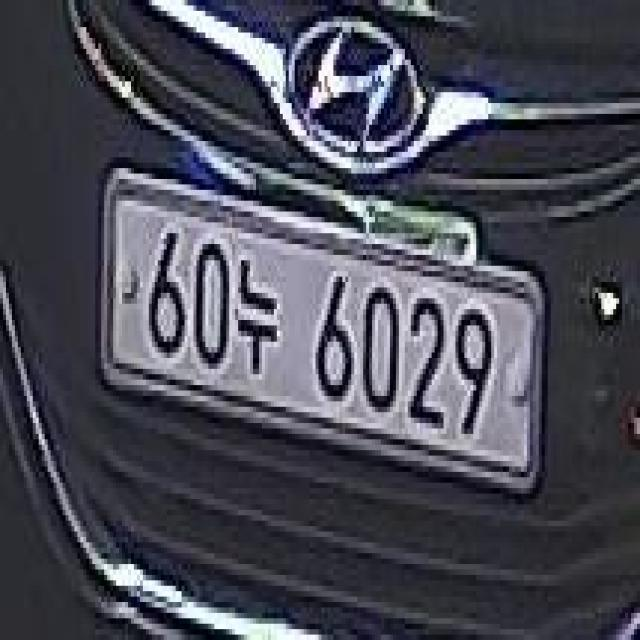0: (360, 279, 404, 414), (190, 230, 233, 368)
2: (409, 292, 449, 442)
6: (138, 218, 188, 361), (312, 258, 356, 407)
9: (452, 299, 498, 449)
license_plate: (95, 145, 561, 511)
nu: (238, 244, 284, 382)
